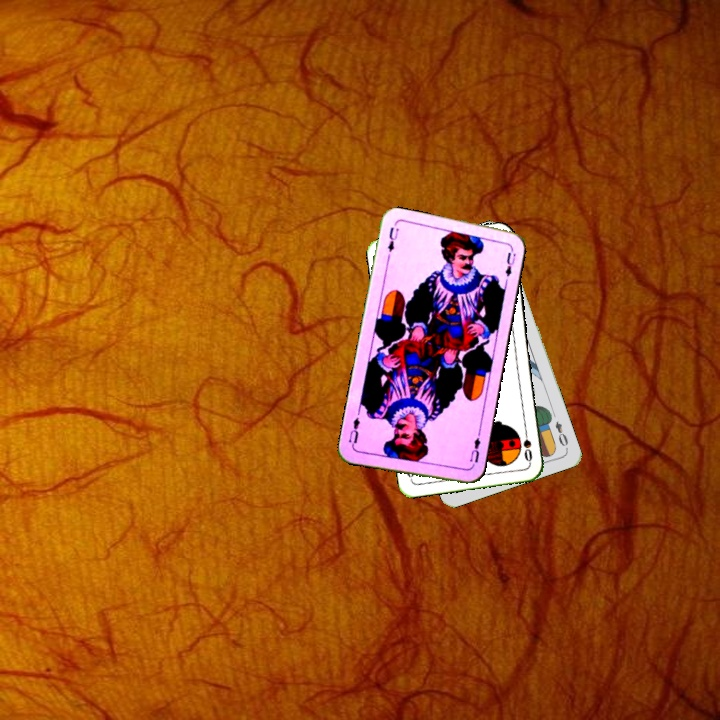EO: (551, 417, 571, 452)
EU: (383, 223, 401, 262), (465, 434, 483, 465)
SO: (519, 424, 535, 465)
